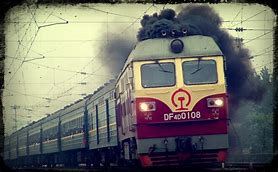smoke: (136, 4, 222, 37)
